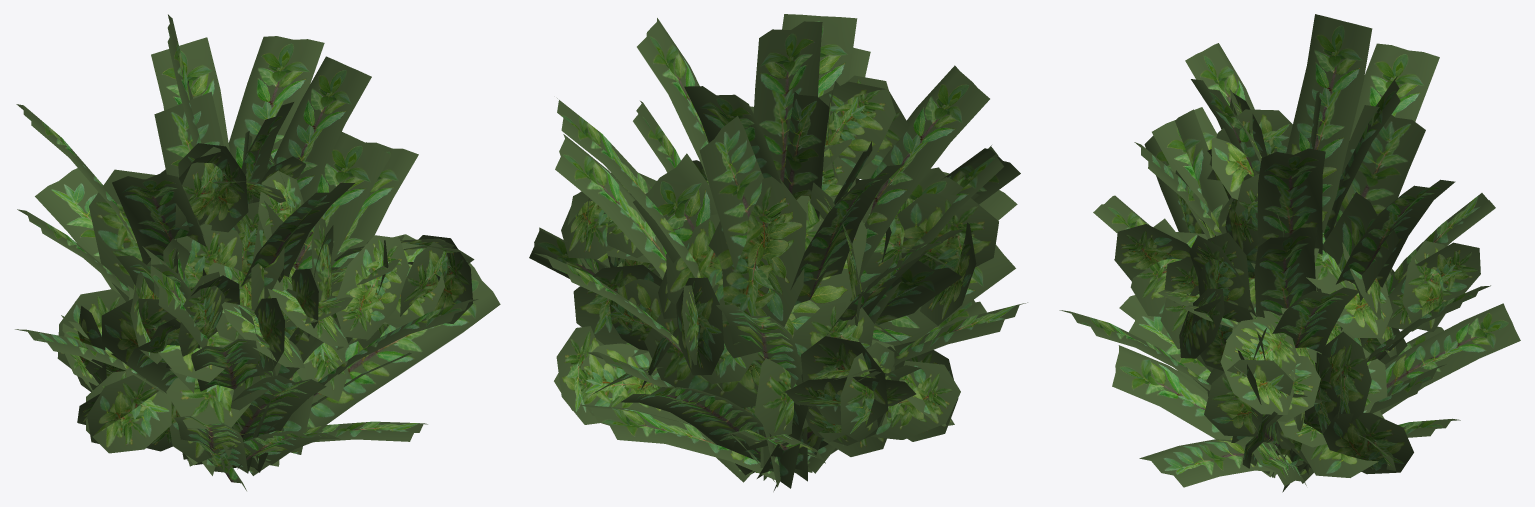
File: BushLeaves_02.fbx
The picture shows the model from 3 angles, left to right: view 1: azimuth 30°, elevation 25°; view 2: azimuth 150°, elevation 25°; view 3: azimuth 270°, elevation 25°; orthographic projection. The views are drawn at different scales.
Visible parts, largest first — view 1: BushLeaves_02; view 2: BushLeaves_02; view 3: BushLeaves_02.
Part boxes in pixels (<box>): BushLeaves_02: <box>15,14,500,490</box>; BushLeaves_02: <box>529,14,1027,491</box>; BushLeaves_02: <box>1059,14,1520,492</box>.
Bounding box in the file's own units: 169 × 156 × 149.
1 material, 1 textured.
